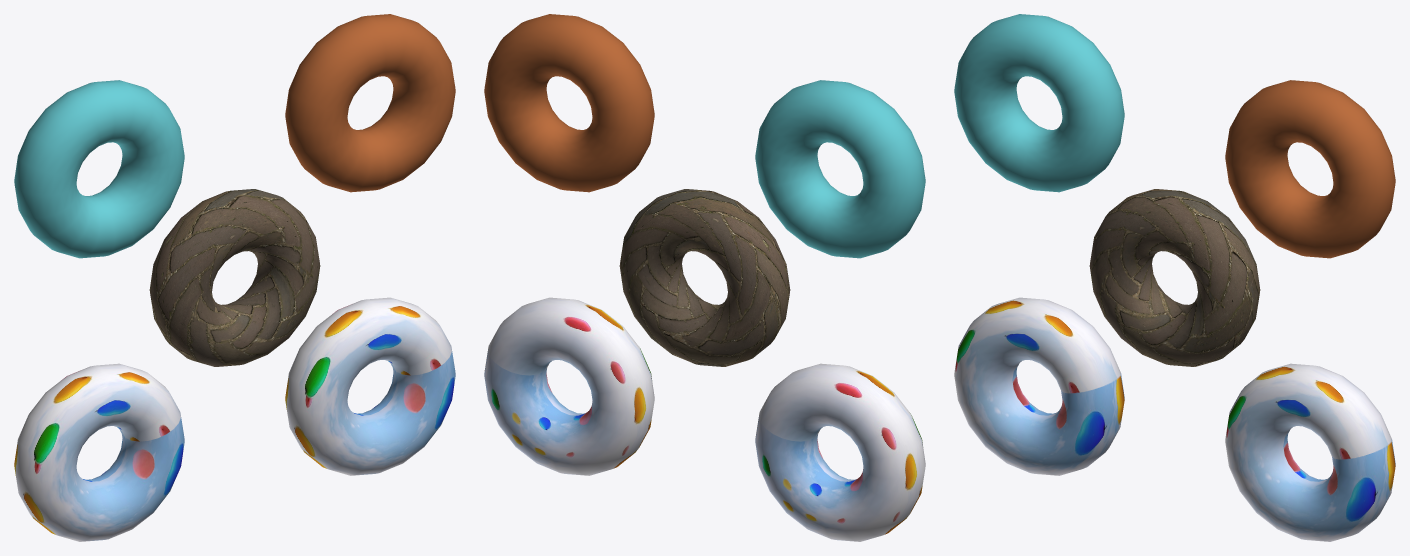
The model's file is BallNormal.fbx.
The picture shows the model from 3 angles, left to right: view 1: azimuth 30°, elevation 25°; view 2: azimuth 150°, elevation 25°; view 3: azimuth 330°, elevation 25°; orthographic projection.
Parts seen in each view (by area): view 1: pTorus7; view 2: pTorus7; view 3: pTorus7.
Part boxes in pixels (left/top/right/bottom): pTorus7: left=14, top=14, right=455, bottom=541; pTorus7: left=484, top=14, right=925, bottom=541; pTorus7: left=954, top=14, right=1395, bottom=541.
Bounding box in the file's own units: 8 × 8 × 1.
Materials: 5 (3 with a texture image).
